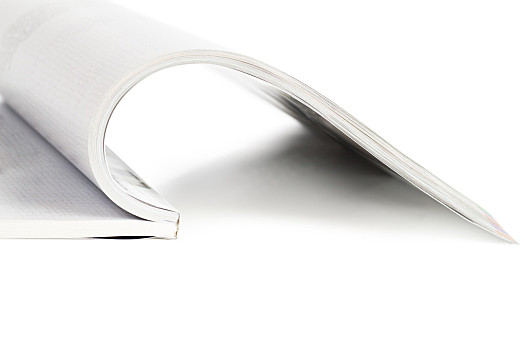book: (0, 2, 521, 246)
